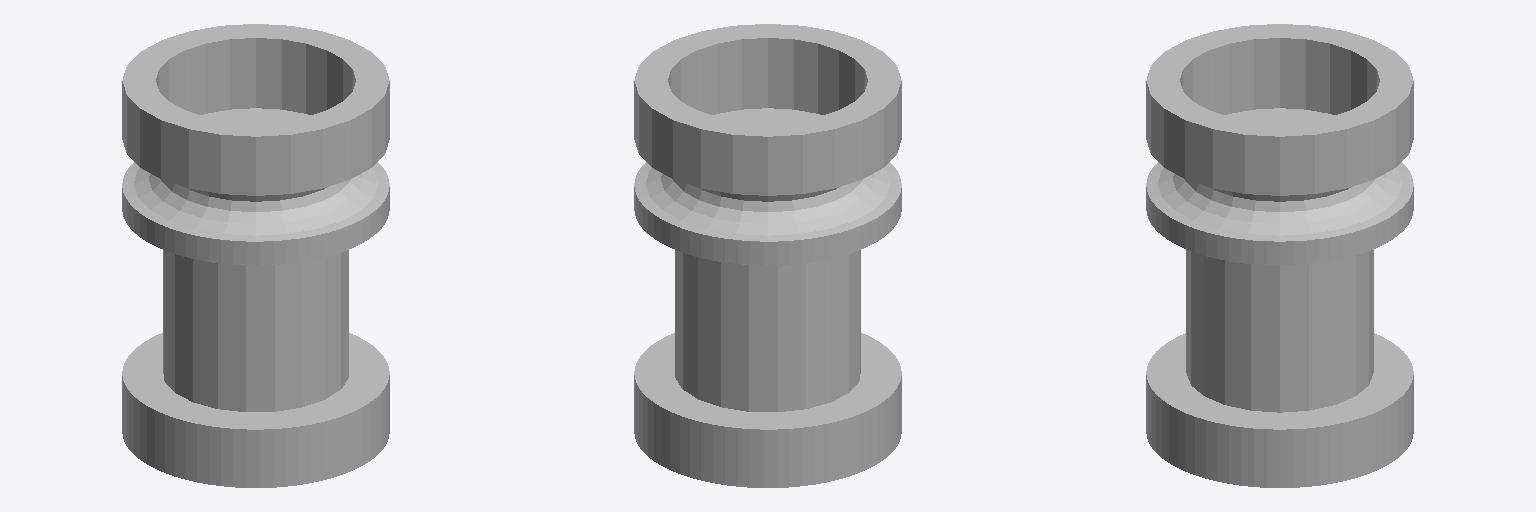
The model's file is Turm.obj.
The picture shows the model from 3 angles: view 1: azimuth 30°, elevation 25°; view 2: azimuth 150°, elevation 25°; view 3: azimuth 270°, elevation 25°; orthographic projection.
Visible parts, largest first — view 1: obj_0; view 2: obj_0; view 3: obj_0.
Boxes of the visible parts, <box> form: obj_0: <box>122,24,389,487</box>; obj_0: <box>634,24,901,487</box>; obj_0: <box>1146,24,1413,487</box>.
Size of the model in its own units: 20 by 29 by 20.